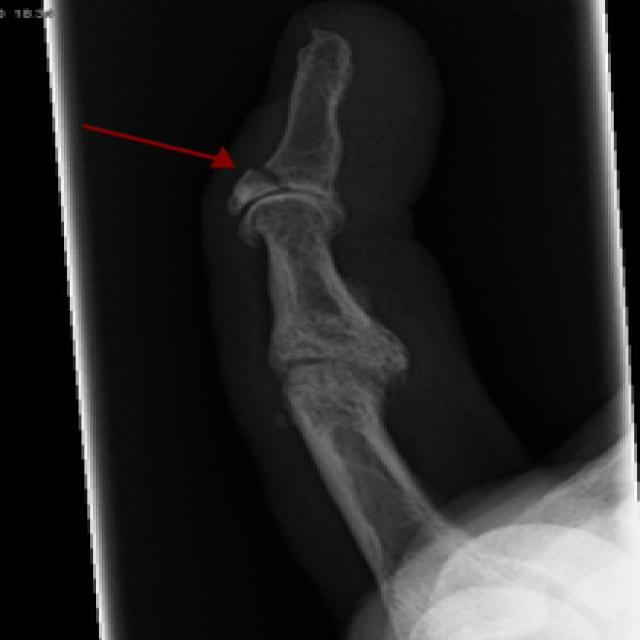fracture: (165, 112, 372, 239)
